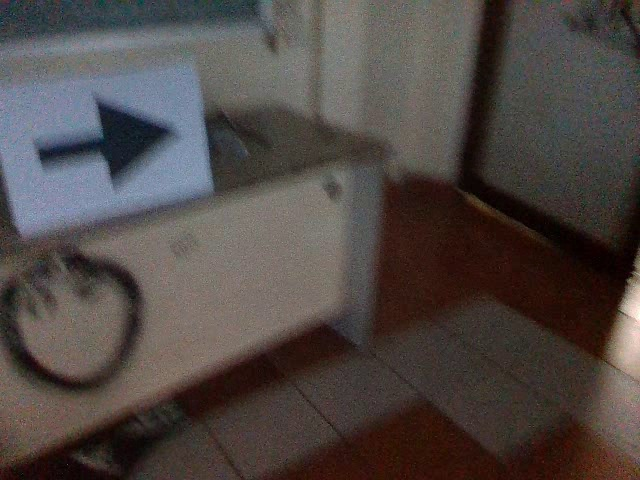Right: (22, 90, 187, 197)
